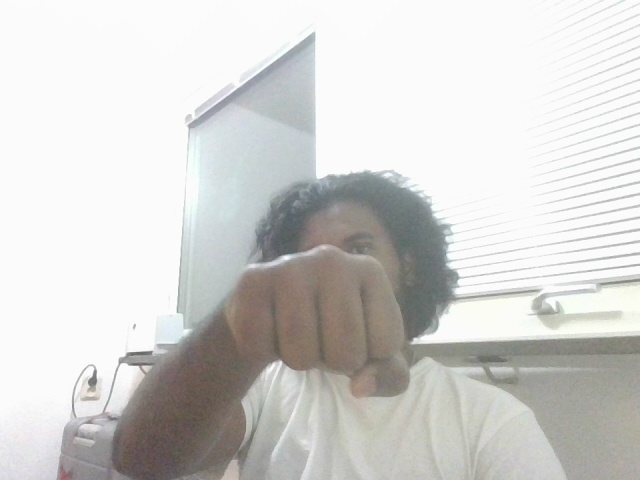Yes: (206, 246, 456, 410)
